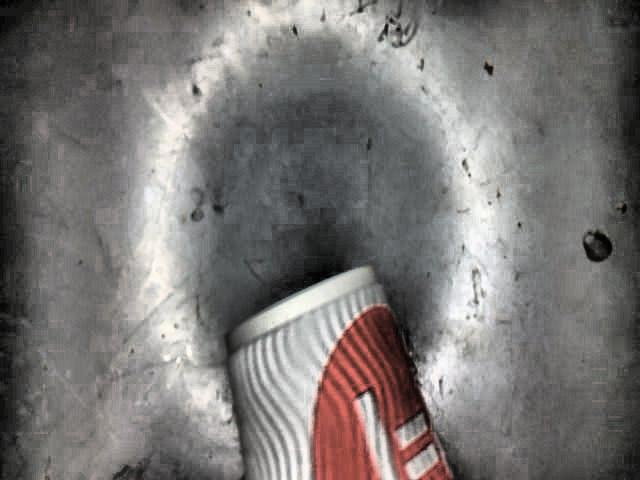Paper: (229, 263, 451, 480)
